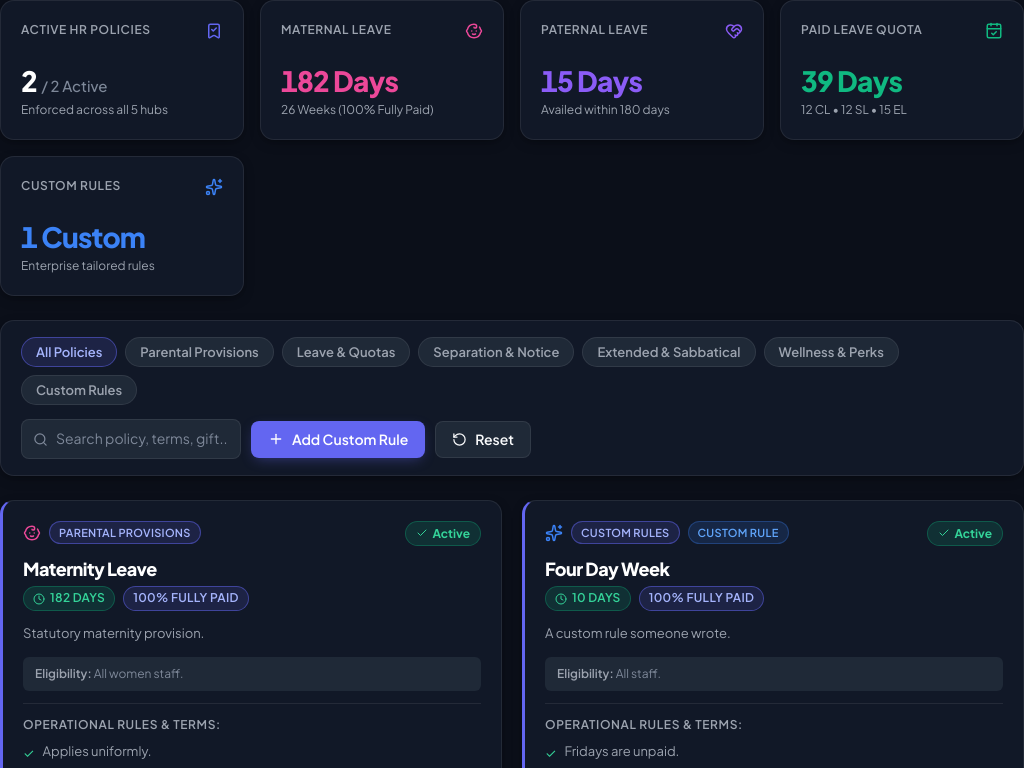
Test: PolicySection destructive actions › resets only when the answer is yes
This screenshot has width=1024, height=768.
Click the button "Reset".
click(483, 439)  # box [435,421,531,458]
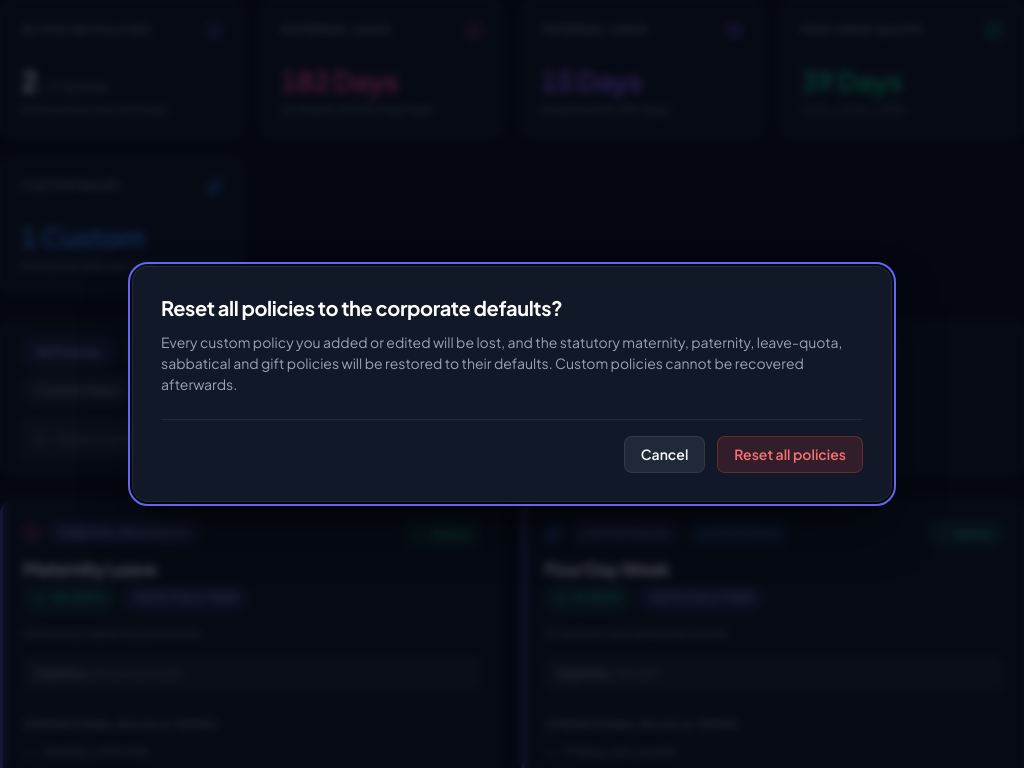
Click the button "Reset all policies".
click(790, 454)  # box [717,436,863,473]
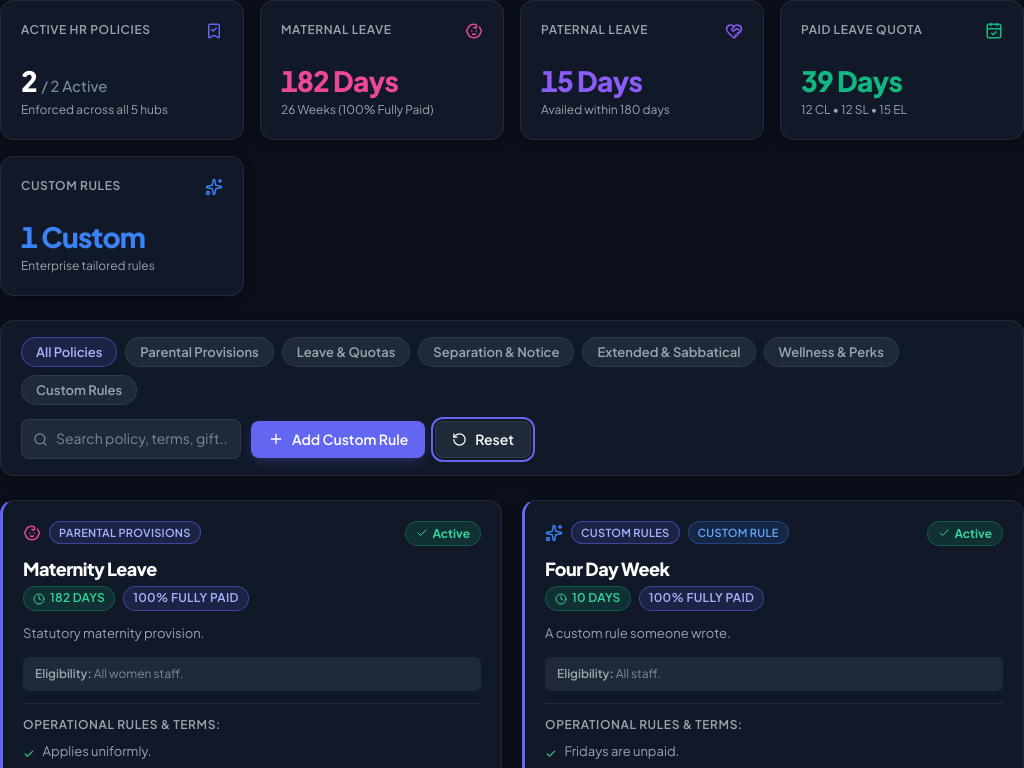
Now the dialog is gone
